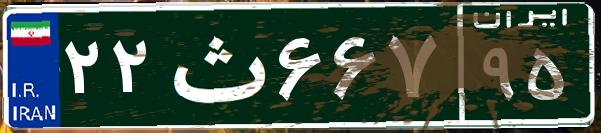2: (57, 26, 110, 107), (110, 28, 158, 105)
5: (525, 38, 570, 115)
6: (273, 28, 330, 110), (330, 28, 385, 110)
7: (385, 28, 445, 110)
9: (475, 38, 525, 113)
ث: (158, 15, 273, 115)
